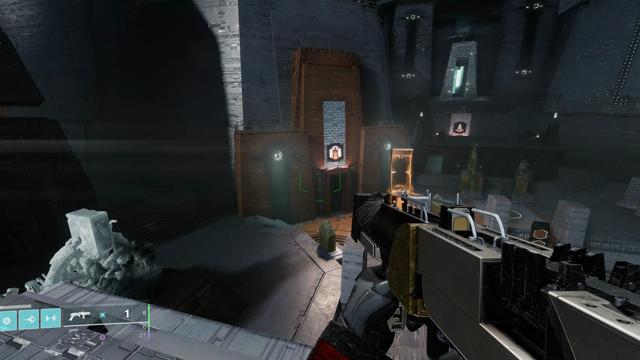enter: (454, 123, 465, 132)
worship: (329, 146, 342, 159)
